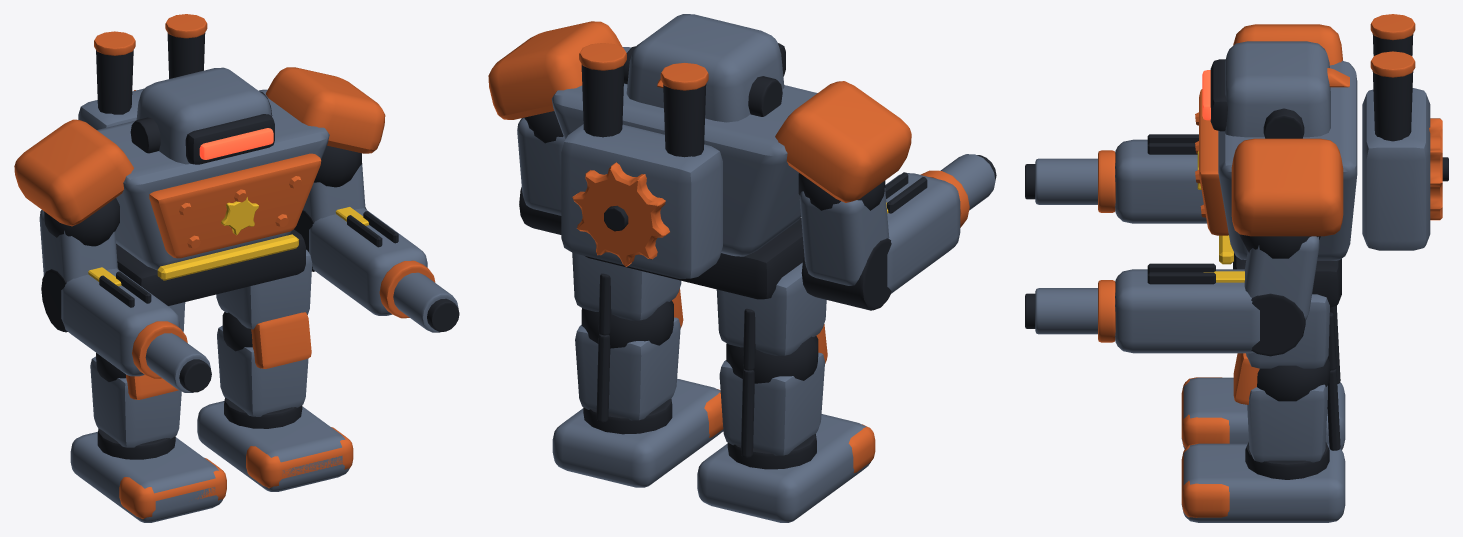
Rendered from rivet_rig.fbx.
3 views of the same model, side by side, from view 1: azimuth 30°, elevation 25°; view 2: azimuth 150°, elevation 25°; view 3: azimuth 270°, elevation 25° (orthographic). The views are drawn at different scales.
Visible parts, largest first — view 1: Body, Arm_R, Arm_L, Leg_L_Lower, Leg_R_Lower, Head, Leg_L_Upper, Leg_R_Upper, Eye; view 2: Body, Leg_R_Lower, Arm_R, Leg_L_Lower, Head, Leg_R_Upper, Leg_L_Upper, Arm_L; view 3: Body, Arm_L, Leg_L_Lower, Arm_R, Head, Leg_L_Upper, Leg_R_Lower.
Part boxes in pixels (x1=…): Body: x1=14, y1=14, x2=385, y2=305; Arm_R: x1=39, y1=198, x2=211, y2=392; Arm_L: x1=294, y1=145, x2=459, y2=332; Leg_L_Lower: x1=197, y1=325, x2=353, y2=491; Leg_R_Lower: x1=70, y1=356, x2=226, y2=522; Head: x1=130, y1=67, x2=274, y2=164; Leg_L_Upper: x1=216, y1=249, x2=312, y2=368; Leg_R_Upper: x1=96, y1=302, x2=185, y2=399; Eye: x1=199, y1=128, x2=273, y2=159; Body: x1=488, y1=21, x2=911, y2=299; Leg_R_Lower: x1=697, y1=352, x2=875, y2=522; Arm_R: x1=798, y1=154, x2=996, y2=310; Leg_L_Lower: x1=552, y1=317, x2=723, y2=487; Head: x1=624, y1=14, x2=785, y2=122; Leg_R_Upper: x1=716, y1=262, x2=827, y2=383; Leg_L_Upper: x1=572, y1=253, x2=683, y2=348; Arm_L: x1=517, y1=111, x2=564, y2=234; Body: x1=1195, y1=14, x2=1448, y2=307; Arm_L: x1=1025, y1=234, x2=1320, y2=356; Leg_L_Lower: x1=1181, y1=369, x2=1345, y2=522; Arm_R: x1=1025, y1=134, x2=1206, y2=223; Head: x1=1210, y1=41, x2=1349, y2=138; Leg_L_Upper: x1=1233, y1=294, x2=1336, y2=404; Leg_R_Lower: x1=1181, y1=306, x2=1345, y2=449.
Bounding box in the file's own units: 6.07 × 6.97 × 6.22.
2 materials, 1 textured.
